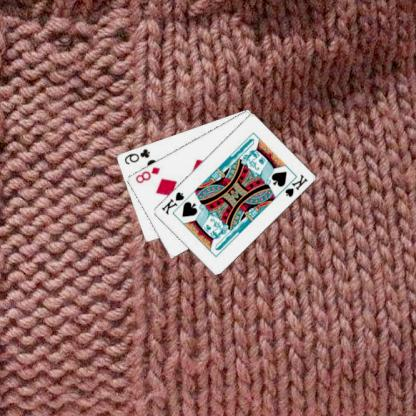6C: (123, 146, 153, 166)
8D: (134, 164, 163, 185)
KS: (278, 171, 310, 199), (160, 189, 187, 216)
